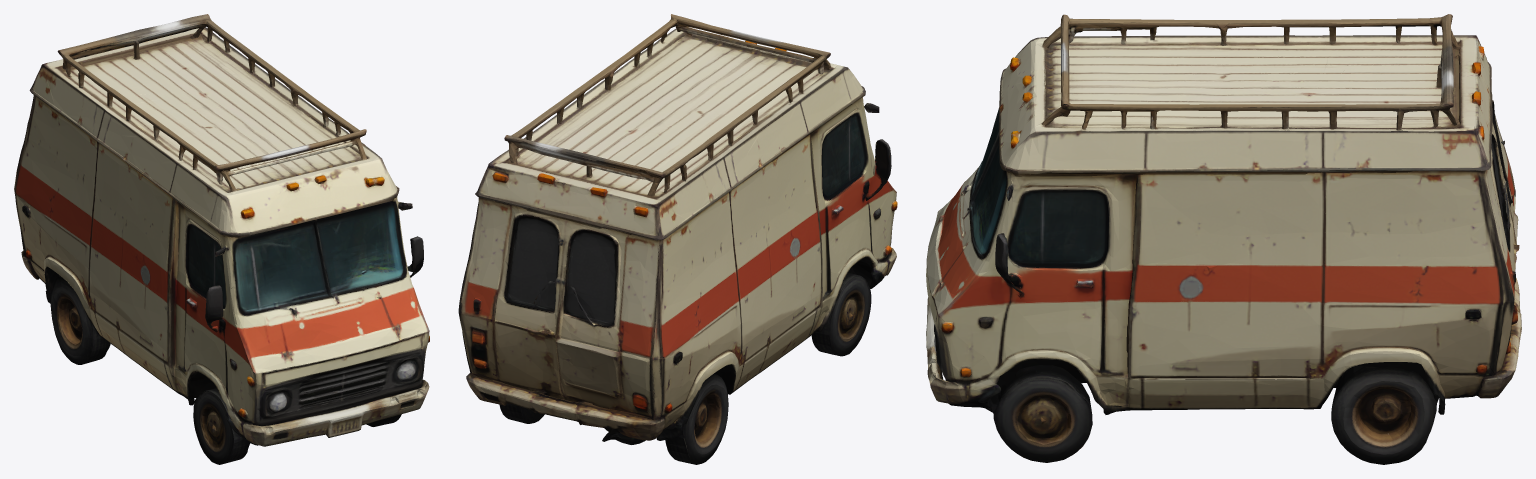
The model's file is delivery_van.glb.
The picture shows the model from 3 angles, left to right: view 1: azimuth 30°, elevation 25°; view 2: azimuth 150°, elevation 25°; view 3: azimuth 270°, elevation 25°; orthographic projection. The views are drawn at different scales.
Visible parts, largest first — view 1: world; view 2: world; view 3: world.
Boxes of the visible parts, x1,y1,x2,y2 form: world: (14, 14, 429, 464); world: (458, 14, 897, 464); world: (926, 14, 1521, 464).
Size of the model in its own units: 0.5168 by 0.6563 by 0.9997.
Materials: 1 (1 with a texture image).
